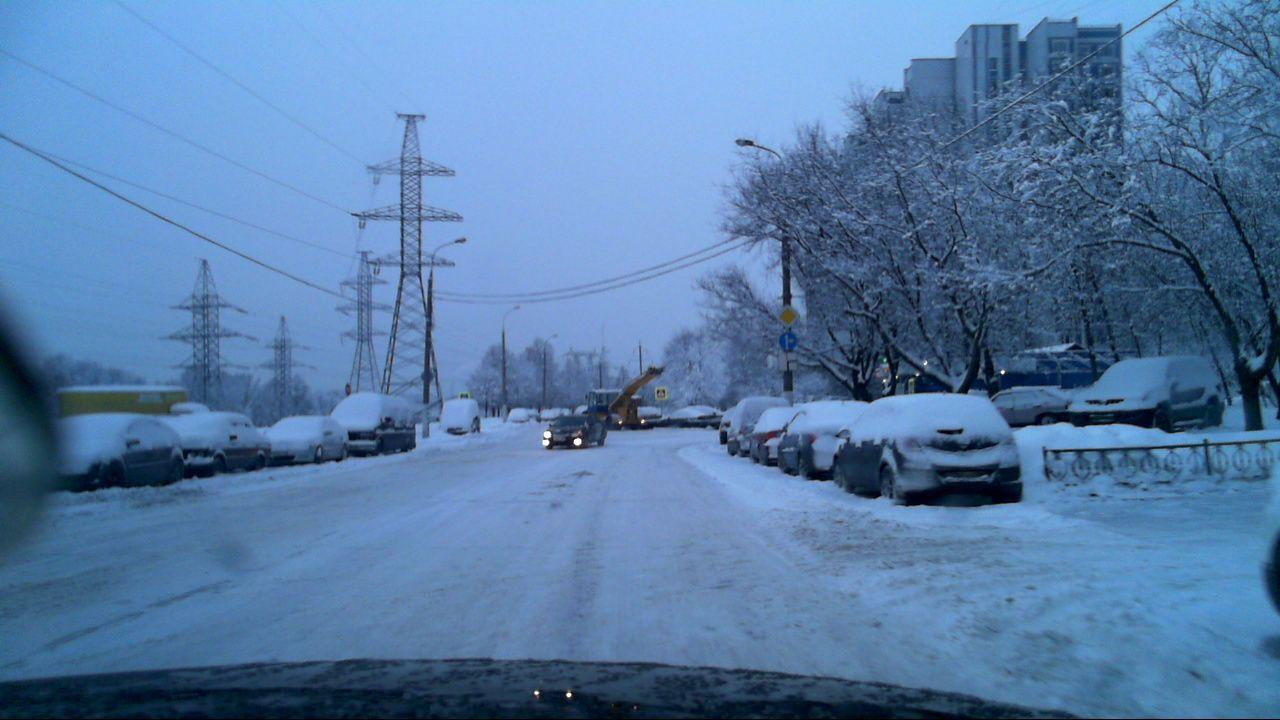road_sign: (774, 303, 802, 329), (779, 329, 799, 350), (778, 351, 797, 371)
